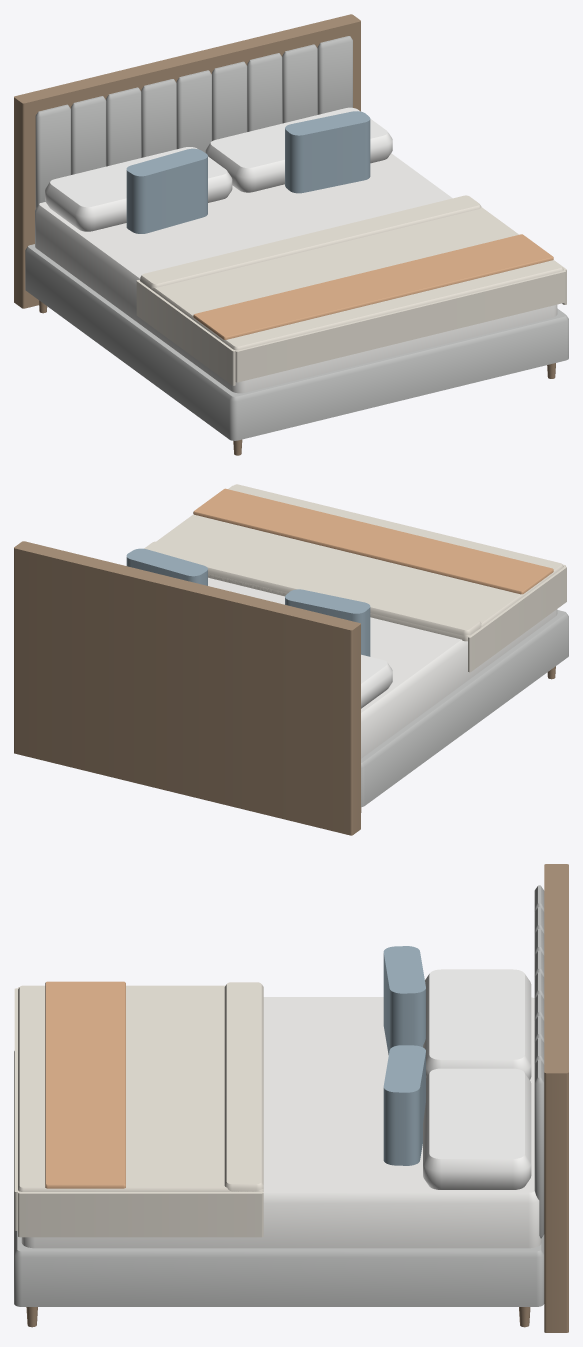
3 renders of one model, top to bottom at view 1: azimuth 30°, elevation 25°; view 2: azimuth 150°, elevation 25°; view 3: azimuth 270°, elevation 25°, orthographic. The views are drawn at different scales.
Visible parts, largest first — view 1: Giường ngủ Rộng nệm=1800; view 2: Giường ngủ Rộng nệm=1800; view 3: Giường ngủ Rộng nệm=1800.
Boxes of the visible parts, x1,y1,x2,y2 form: Giường ngủ Rộng nệm=1800: [14, 14, 568, 455]; Giường ngủ Rộng nệm=1800: [14, 484, 568, 835]; Giường ngủ Rộng nệm=1800: [14, 864, 568, 1332].
Size of the model in its own units: 1.9 by 1.1 by 2.13.
